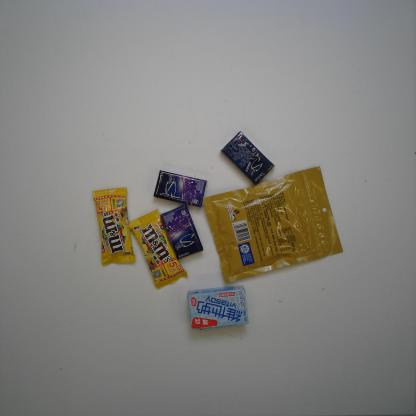Chocolate: (126, 207, 189, 293), (89, 185, 140, 269)
Dried Fruit: (198, 163, 346, 290)
Gum: (219, 129, 278, 189), (158, 204, 206, 261), (150, 168, 209, 208)
Milk: (186, 281, 252, 334)
